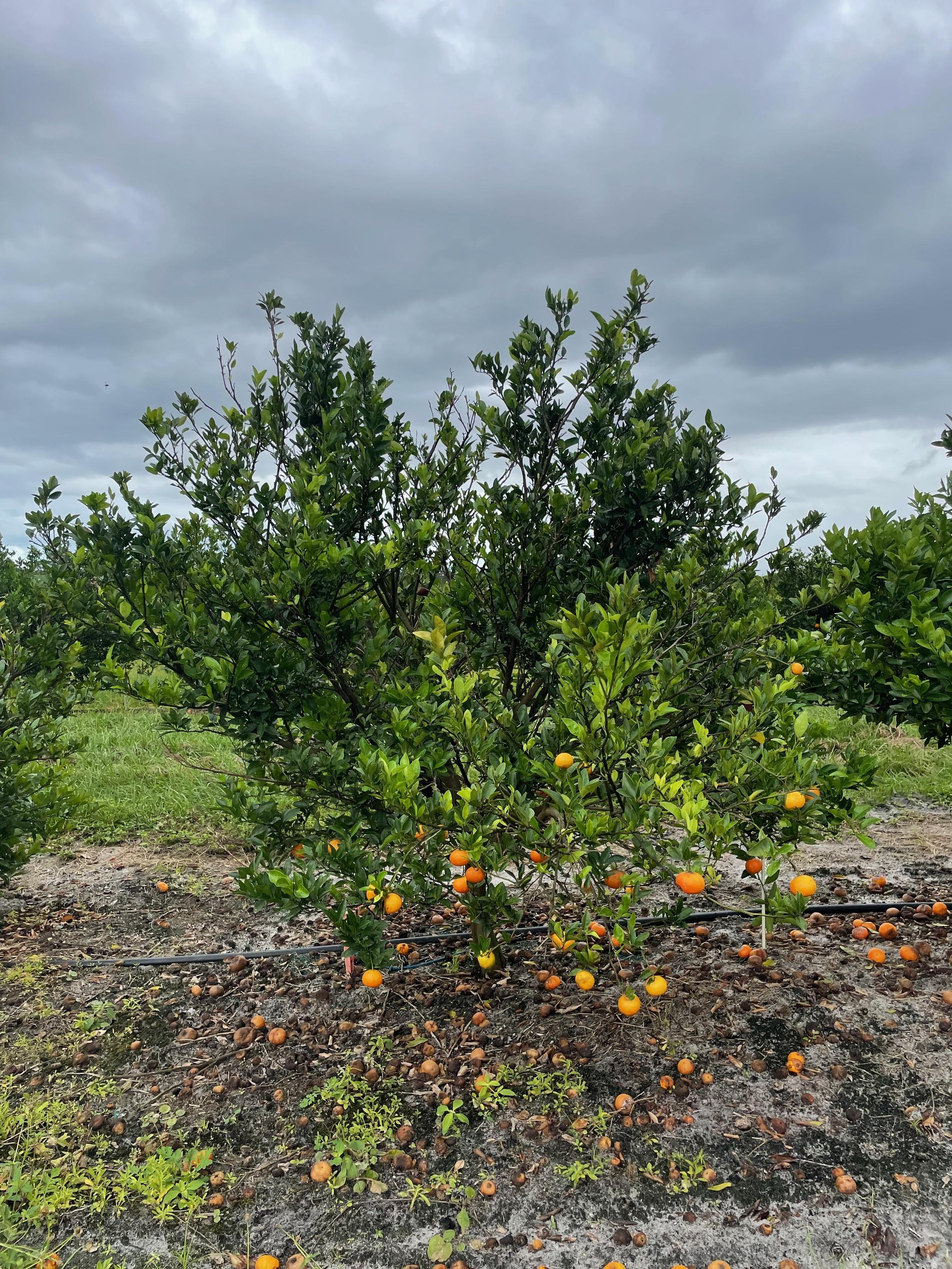fruit_on_ground: (674, 869, 706, 896), (787, 872, 818, 899), (639, 563, 666, 590), (550, 927, 577, 954), (617, 990, 642, 1017), (781, 788, 807, 813), (643, 973, 668, 998), (602, 867, 629, 890), (474, 947, 498, 971), (360, 967, 384, 990), (574, 968, 596, 992), (552, 749, 576, 771), (363, 881, 385, 904), (800, 783, 823, 805), (381, 891, 403, 914), (448, 846, 471, 868), (573, 757, 596, 778), (410, 822, 431, 843), (452, 874, 473, 895), (743, 856, 765, 876), (289, 841, 310, 861), (325, 836, 346, 856), (526, 846, 548, 865), (464, 865, 486, 884), (432, 822, 450, 841), (788, 659, 806, 677), (534, 781, 552, 799)
fruit_on_tree: (31, 1250, 64, 1269), (310, 1159, 333, 1183), (282, 1252, 314, 1269), (613, 1092, 636, 1115), (232, 1026, 256, 1047), (254, 1252, 282, 1269), (223, 953, 248, 972), (836, 1174, 859, 1194), (189, 1149, 213, 1168), (254, 1252, 280, 1269), (898, 943, 920, 963), (394, 1124, 415, 1144), (866, 945, 888, 964), (676, 1056, 696, 1076), (472, 1073, 493, 1092), (877, 921, 898, 940), (418, 1058, 440, 1076), (267, 1026, 287, 1045), (775, 1255, 801, 1269), (657, 1071, 676, 1090), (346, 1057, 366, 1075), (543, 973, 563, 991), (930, 898, 950, 916), (914, 938, 933, 956), (393, 1152, 412, 1170), (177, 1025, 197, 1042), (699, 1165, 717, 1183), (479, 1178, 497, 1196), (469, 1046, 488, 1063), (206, 982, 226, 998), (785, 1051, 806, 1066), (706, 1257, 732, 1269), (599, 1258, 627, 1269), (589, 921, 607, 938), (249, 1012, 267, 1029), (748, 946, 767, 962), (469, 1010, 488, 1026), (364, 1066, 381, 1083), (631, 1231, 648, 1248), (537, 1001, 554, 1018), (750, 1057, 768, 1073), (187, 981, 205, 997), (786, 1058, 804, 1074), (617, 967, 636, 982), (807, 911, 826, 926), (524, 1044, 540, 1060), (110, 1120, 126, 1136), (420, 1041, 436, 1057), (596, 1134, 612, 1150), (395, 940, 411, 956), (830, 1165, 847, 1180), (737, 944, 754, 959), (789, 926, 807, 940), (746, 953, 764, 967), (915, 902, 933, 916), (759, 1221, 775, 1236), (72, 1051, 88, 1066), (330, 1102, 346, 1117), (535, 968, 552, 982), (694, 923, 711, 937), (870, 873, 887, 887), (852, 926, 869, 940), (620, 1115, 635, 1130), (700, 1070, 715, 1085), (861, 919, 877, 933), (940, 987, 952, 1005), (247, 1053, 262, 1067), (511, 1171, 526, 1185), (61, 993, 76, 1007), (663, 1115, 677, 1130), (407, 948, 422, 962), (424, 1019, 439, 1033), (155, 879, 170, 893), (429, 913, 445, 926), (608, 934, 622, 948), (454, 982, 469, 995), (832, 885, 847, 898), (680, 1112, 695, 1125), (885, 905, 901, 917), (760, 928, 774, 941), (129, 1037, 143, 1050), (439, 1094, 452, 1107), (851, 916, 866, 927), (478, 1017, 491, 1029), (212, 1083, 225, 1094)
